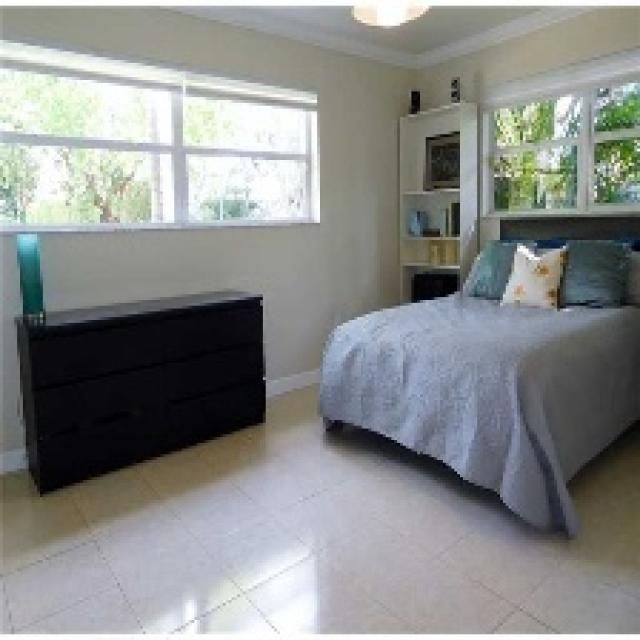Bed: (317, 214, 637, 537)
